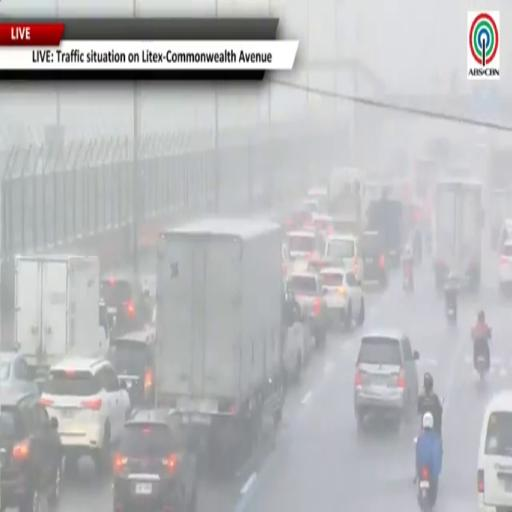car: (40, 357, 130, 473), (113, 409, 197, 511), (0, 390, 62, 511), (354, 329, 419, 431), (477, 391, 511, 511), (109, 328, 155, 407), (287, 271, 328, 348), (282, 286, 314, 383), (101, 274, 151, 335), (320, 267, 365, 330), (324, 234, 363, 282), (0, 351, 38, 394), (360, 231, 387, 287), (286, 230, 324, 261), (283, 205, 312, 231), (499, 239, 511, 293), (99, 300, 112, 346), (307, 187, 328, 212), (332, 216, 359, 235), (496, 218, 511, 251), (310, 214, 333, 234), (282, 243, 291, 279), (302, 198, 322, 213)
motorcycle: (418, 467, 432, 512), (475, 347, 489, 382), (475, 355, 487, 381), (403, 264, 413, 293), (445, 301, 456, 324)
truck: (155, 218, 284, 467), (13, 254, 107, 375), (433, 179, 483, 291), (366, 189, 403, 266), (328, 168, 363, 235)
